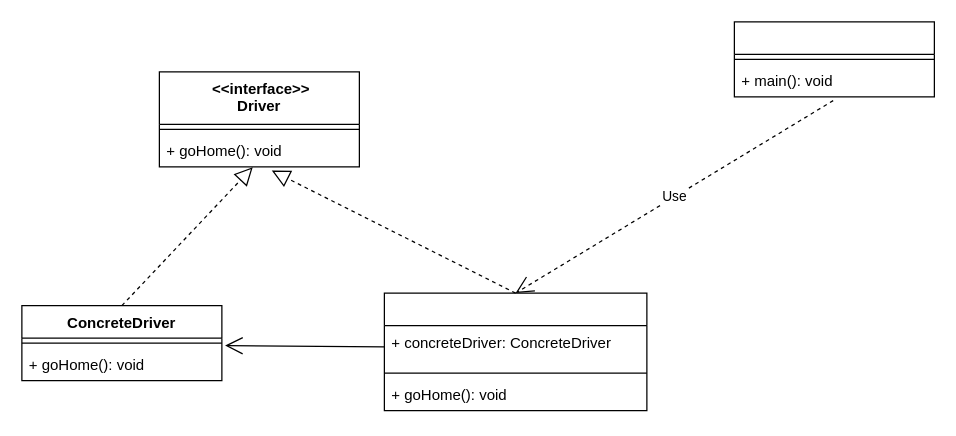
Some shapes in this 956 by 436 pixel diagram are drawn without their labels. The box of each missing label's shape, as (x1, y1, x2, y2) in pixels:
ProxyDriver: (383, 292, 647, 411)
Test: (733, 21, 934, 97)
